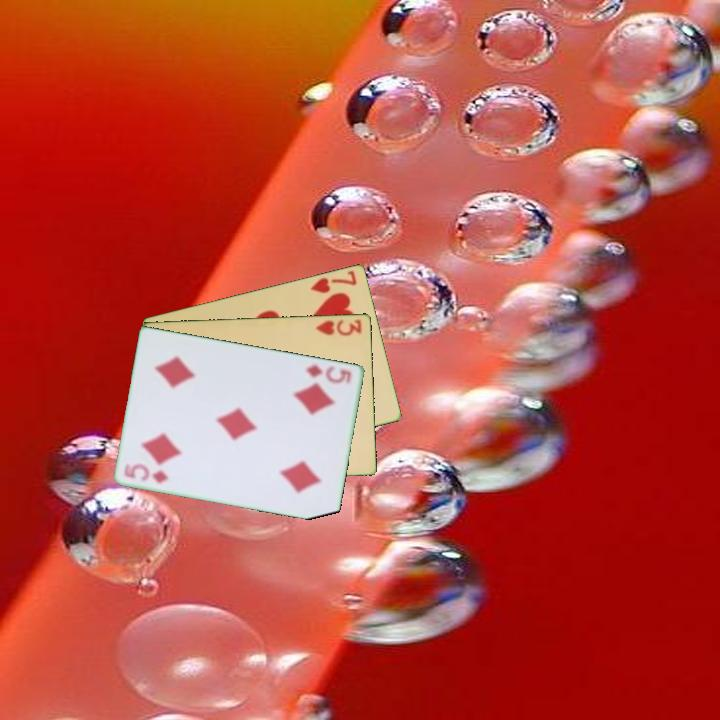3h: (313, 316, 365, 338)
5d: (302, 361, 355, 387), (121, 460, 172, 485)
7h: (307, 267, 360, 296)
